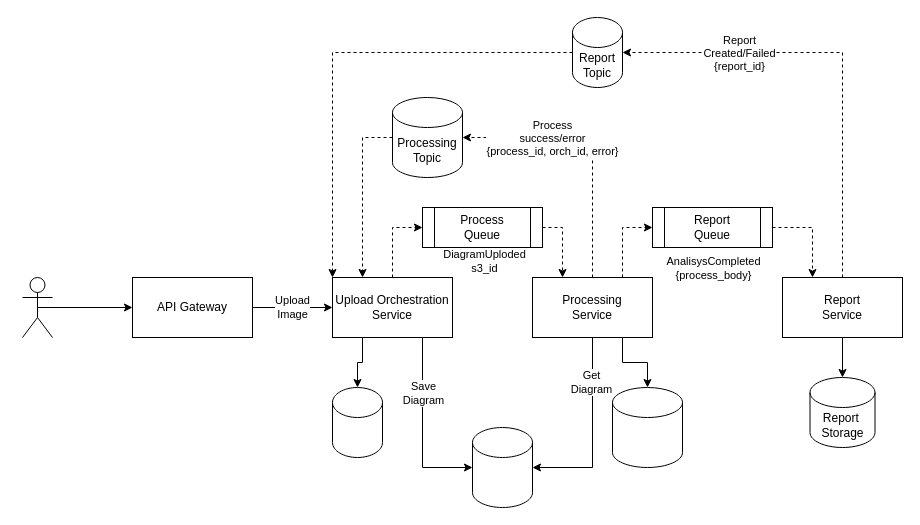
This 920x525 diagram has some shape labels left out. The shapes that lost their labels are listed below. From the top down, each one's centre as x and y in pixels, then its label:
pixel 37 307: Usuário
pixel 357 422: Orch Storage
pixel 647 427: Processing Storage
pixel 502 467: S3 Diagram Storage
